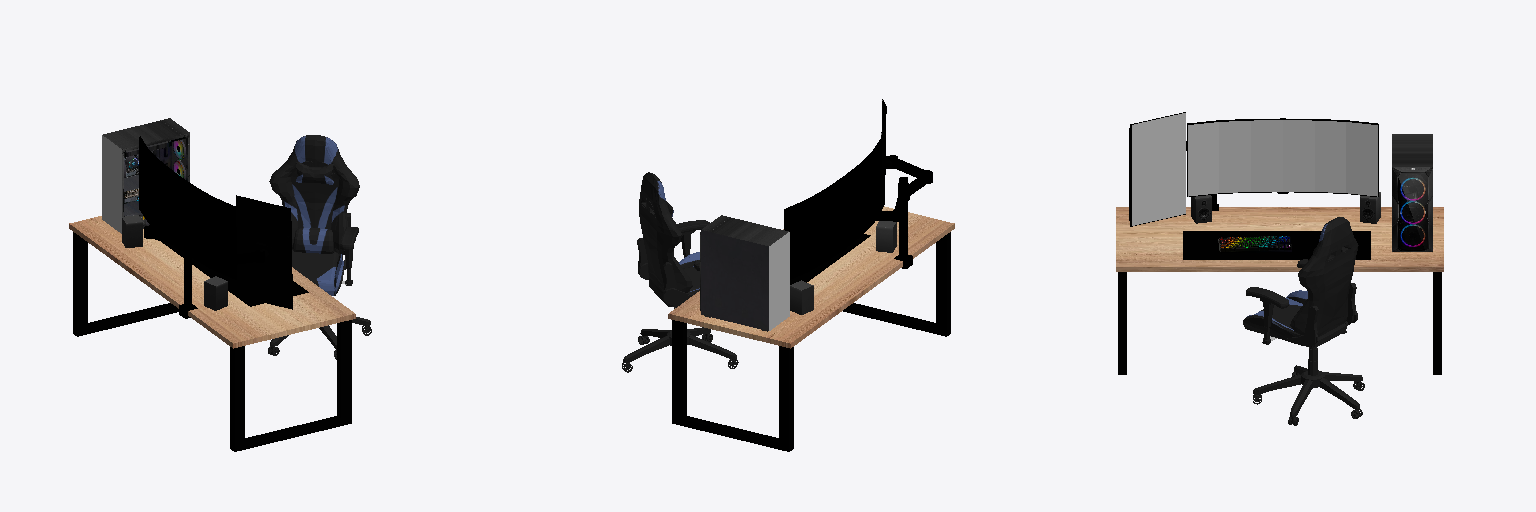
3 renders of one model, left to right at view 1: azimuth 30°, elevation 25°; view 2: azimuth 150°, elevation 25°; view 3: azimuth 270°, elevation 25°, orthographic.
Visible parts, largest first — view 1: desk_Plane.001, whole_boundary_Plane.004, Plane.006, Plane_Plane.001, Cylinder, Cube_Cube.003, pad_Plane.005, Plane.001_Plane.004, Plane.003; view 2: desk_Plane.001, Plane_Plane.001, whole_boundary_Plane.004, Plane.006, Cube_Cube.003, Plane.003, Plane.001_Plane.004; view 3: Plane.006, desk_Plane.001, whole_boundary_Plane.004, Cylinder, Plane_Plane.001, pad_Plane.005, Plane, Plane.003, Plane.001_Plane.004.
Part boxes in pixels (x1,y1,x2,y2): desk_Plane.001: (69, 216, 355, 451); whole_boundary_Plane.004: (268, 135, 371, 359); Plane.006: (139, 136, 236, 279); Plane_Plane.001: (102, 118, 189, 233); Cylinder: (236, 195, 292, 309); Cube_Cube.003: (179, 226, 197, 318); pad_Plane.005: (161, 241, 308, 306); Plane.001_Plane.004: (204, 276, 227, 310); Plane.003: (122, 215, 142, 247); desk_Plane.001: (668, 206, 954, 451); Plane_Plane.001: (700, 215, 789, 331); whole_boundary_Plane.004: (622, 172, 738, 372); Plane.006: (784, 139, 882, 279); Cube_Cube.003: (894, 177, 912, 268); Plane.003: (790, 280, 813, 314); Plane.001_Plane.004: (876, 221, 896, 252); Plane.006: (1187, 118, 1378, 196); desk_Plane.001: (1116, 207, 1443, 374); whole_boundary_Plane.004: (1243, 217, 1364, 425); Cylinder: (1129, 112, 1185, 226); Plane_Plane.001: (1392, 134, 1432, 251); pad_Plane.005: (1183, 231, 1370, 259); Plane: (1218, 236, 1291, 253); Plane.003: (1360, 192, 1380, 223); Plane.001_Plane.004: (1191, 195, 1211, 223).
Bounding box in the file's own units: 6.04 × 5.27 × 7.
Materials: 21 (8 with a texture image).